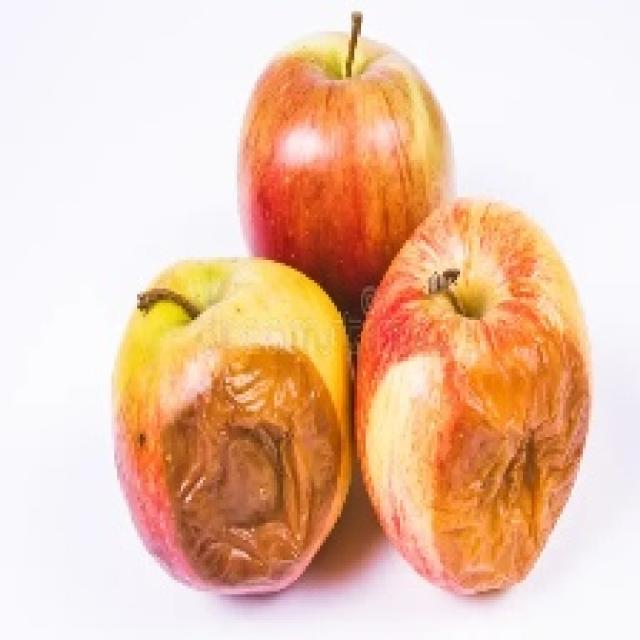100-_ripeness: (239, 36, 453, 198)
rotten_apple: (362, 202, 589, 594), (114, 257, 347, 586)
